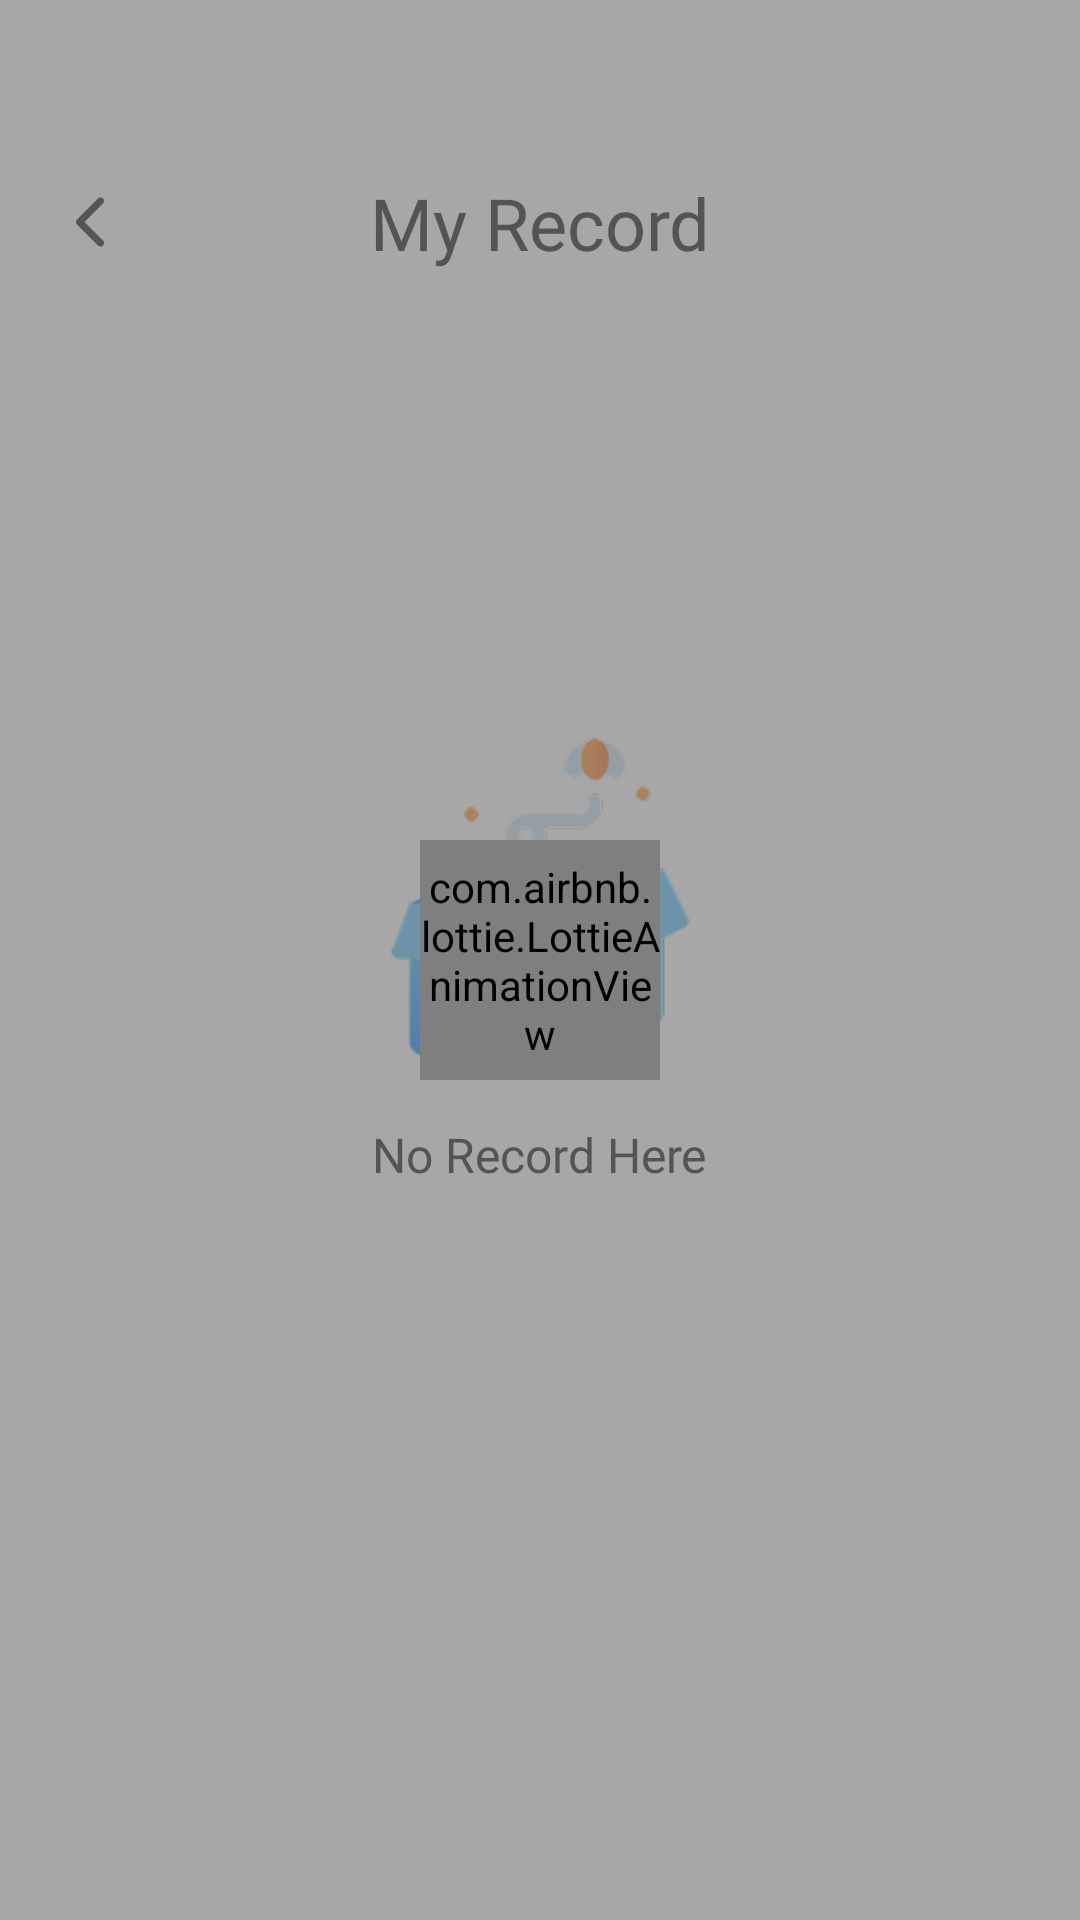

Point at icon controls on the screen. Image size 1080px x 1920px, points as (x=x, y=y).
back: (x=90, y=222)
